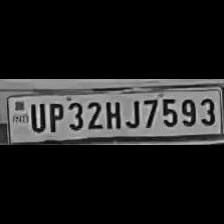2: (84, 97, 104, 130)
3: (64, 98, 84, 130), (197, 96, 217, 127)
5: (158, 95, 178, 127)
7: (140, 96, 158, 128)
9: (178, 96, 196, 127)
H: (103, 97, 123, 129)
J: (123, 96, 141, 130)
P: (46, 100, 64, 132)
U: (26, 100, 46, 132)
